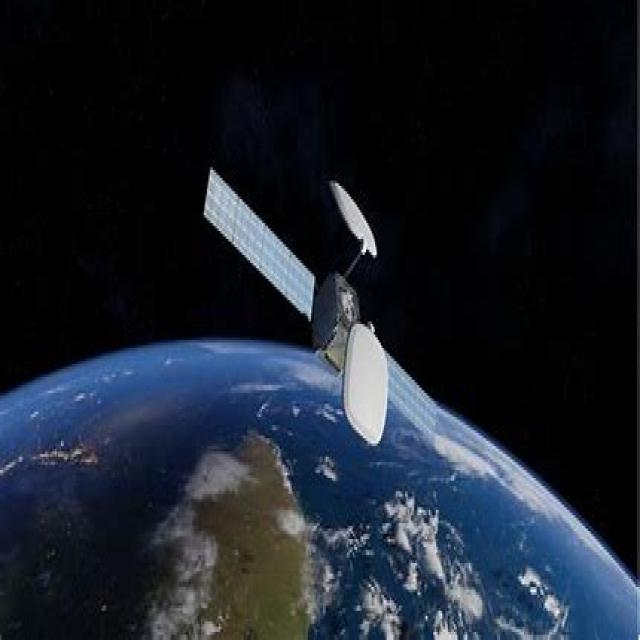medium_debris: (196, 160, 444, 453)
